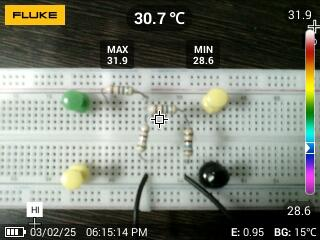resistor: (135, 120, 150, 158), (103, 82, 136, 99), (145, 103, 181, 117), (182, 125, 196, 161)
